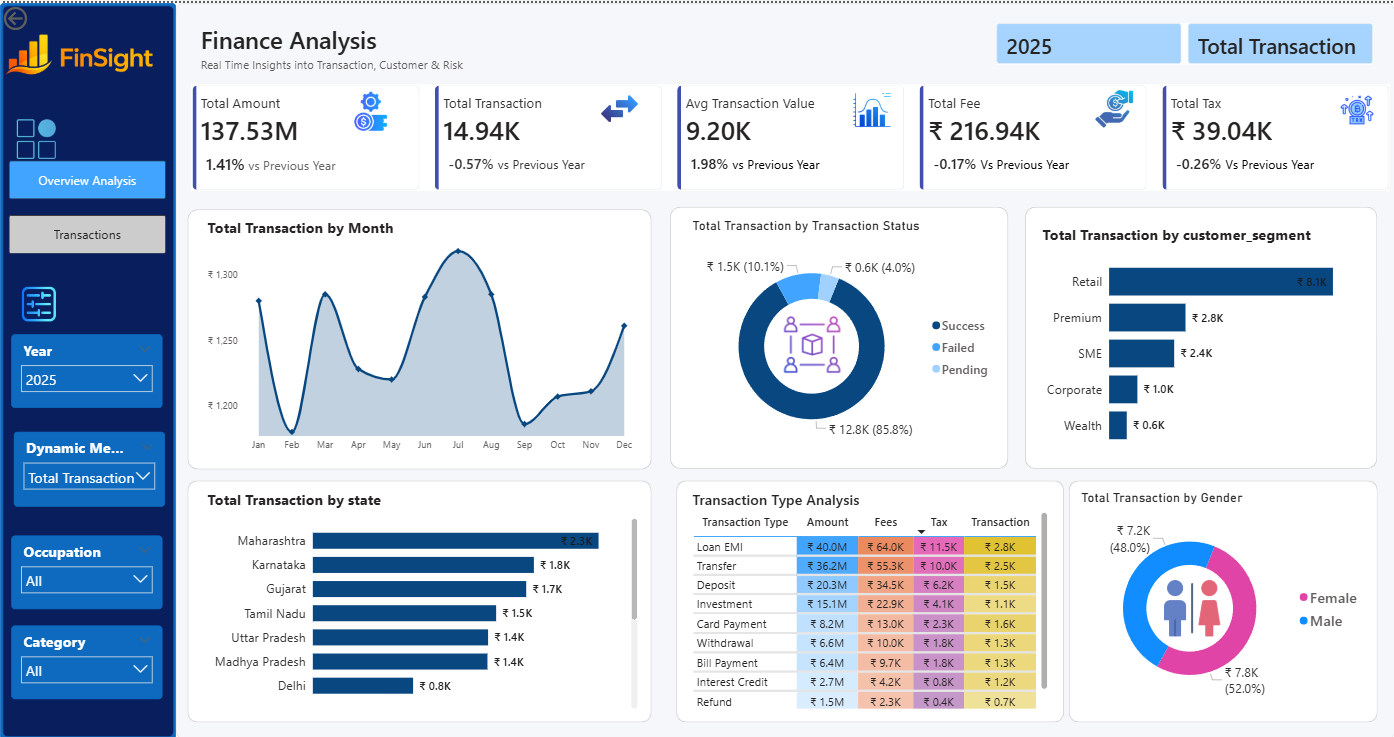

Layout of this report page (visuals, bound fields, positions):
{"tool":"powerbi","page":{"name":"Overview Analysis","canvas":[1800,950],"ordinal":0},"visuals":[{"type":"shape","box":[0,0,227.4,950.2],"z":0},{"type":"shape","box":[227.4,0,1573,950.2],"z":1000},{"type":"image","box":[0,21.6,209.8,92.2],"z":2000},{"type":"cardVisual","fields":{"Data":["finance_transactions.Dashboard Title"]},"box":[242.6,0,424.2,115.4],"z":3000},{"type":"cardVisual","fields":{"Data":["finance_transactions.Total Amount","finance_transactions.Total Transaction","finance_transactions.Avg Transaction Value","finance_transactions.Total Fee","finance_transactions.Total Tax"]},"box":[242.6,100.1,1557.7,147.6],"z":4000},{"type":"slicer","fields":{"Values":["Calender Table.Year"]},"box":[15.3,427.6,195.1,95],"z":5000},{"type":"image","box":[452.9,114.5,50,50.7],"z":6000},{"type":"image","box":[775.1,111.2,50.7,50.7],"z":7000},{"type":"image","box":[1406.3,111.2,62.1,50.7],"z":8000},{"type":"image","box":[1100.5,112.8,50.7,50],"z":9000},{"type":"image","box":[1726.7,112.8,50.7,50.7],"z":10000},{"type":"slicer","fields":{"Values":["Dynamic Metric.Dynamic Metric"]},"box":[17,553.2,195.1,96.7],"z":11000},{"type":"shape","box":[242.6,266.4,599,336],"z":12000},{"type":"areaChart","fields":{"Y":["finance_transactions.Total Transaction"],"Category":["Calender Table.Month"]},"box":[263,278.3,565,310.5],"z":13000},{"type":"cardVisual","fields":{"Data":["finance_transactions.Selected Year","finance_transactions.Selecetd Dynamic Measure"]},"box":[1280.3,21.3,497.1,63.8],"z":14000},{"type":"shape","box":[865,263.3,436.6,338.5],"z":15000},{"type":"donutChart","fields":{"Y":["finance_transactions.Total Transaction"],"Category":["finance_transactions.transaction_status"]},"box":[889.1,278.3,400.5,312.2],"z":16000},{"type":"shape","box":[1322.9,263.3,454.6,338.5],"z":17000},{"type":"barChart","fields":{"Y":["finance_transactions.Total Transaction"],"Category":["customers.customer_segment"]},"box":[1340.8,286.2,425.1,302.5],"z":18000},{"type":"shape","box":[242.6,616,599,312.2],"z":19000},{"type":"barChart","fields":{"Y":["finance_transactions.Total Transaction"],"Category":["customers.state"]},"box":[263,627.8,565,288.5],"z":20000},{"type":"shape","box":[872.2,616,500.6,312.2],"z":21000},{"type":"tableEx","title":"Transaction Type Analysis","fields":{"Values":["finance_transactions.transaction_type","finance_transactions.Total Amount","finance_transactions.Total Fee","finance_transactions.Total Tax","finance_transactions.Total Transaction"]},"box":[889.1,627.8,468.3,288.5],"z":22000},{"type":"shape","box":[1379.5,616,398.8,312.2],"z":23000},{"type":"donutChart","fields":{"Y":["finance_transactions.Total Transaction"],"Category":["customers.gender"]},"box":[1391.4,627.8,375,288.5],"z":24000},{"type":"image","box":[996,402.2,105.2,78.1],"z":25000},{"type":"image","box":[1496.6,722.9,83.1,117.1],"z":26000},{"type":"slicer","fields":{"Values":["customers.occupation"]},"box":[15.3,687.2,195.1,95],"z":27000},{"type":"actionButton","box":[0,0,100,40],"z":28000},{"type":"slicer","fields":{"Values":["finance_transactions.merchant_category"]},"box":[15.3,804.3,195.1,95],"z":29000},{"type":"pageNavigator","box":[11.9,203.6,203.6,120.5],"z":30000},{"type":"image","box":[15.3,363.1,71.3,50.9],"z":31000},{"type":"image","box":[11.9,149.3,71.3,50.9],"z":32000}]}

Visuals, with their boxes on the page's 1800x950 design canvas (x1, y1, x2, y2). These are canvas units, not pixel positions in the 1394x737 screenshot, which may show the page scaled, cropped or inside an application window:
shape: {"x1": 0, "y1": 0, "x2": 227, "y2": 950}
shape: {"x1": 227, "y1": 0, "x2": 1800, "y2": 950}
image: {"x1": 0, "y1": 22, "x2": 210, "y2": 114}
cardVisual - finance_transactions.Dashboard Title: {"x1": 243, "y1": 0, "x2": 667, "y2": 115}
cardVisual - finance_transactions.Total Amount x finance_transactions.Total Transaction: {"x1": 243, "y1": 100, "x2": 1800, "y2": 248}
slicer - Calender Table.Year: {"x1": 15, "y1": 428, "x2": 210, "y2": 523}
image: {"x1": 453, "y1": 114, "x2": 503, "y2": 165}
image: {"x1": 775, "y1": 111, "x2": 826, "y2": 162}
image: {"x1": 1406, "y1": 111, "x2": 1468, "y2": 162}
image: {"x1": 1100, "y1": 113, "x2": 1151, "y2": 163}
image: {"x1": 1727, "y1": 113, "x2": 1777, "y2": 164}
slicer - Dynamic Metric.Dynamic Metric: {"x1": 17, "y1": 553, "x2": 212, "y2": 650}
shape: {"x1": 243, "y1": 266, "x2": 842, "y2": 602}
areaChart - finance_transactions.Total Transaction x Calender Table.Month: {"x1": 263, "y1": 278, "x2": 828, "y2": 589}
cardVisual - finance_transactions.Selected Year x finance_transactions.Selecetd Dynamic Measure: {"x1": 1280, "y1": 21, "x2": 1777, "y2": 85}
shape: {"x1": 865, "y1": 263, "x2": 1302, "y2": 602}
donutChart - finance_transactions.Total Transaction x finance_transactions.transaction_status: {"x1": 889, "y1": 278, "x2": 1290, "y2": 590}
shape: {"x1": 1323, "y1": 263, "x2": 1778, "y2": 602}
barChart - finance_transactions.Total Transaction x customers.customer_segment: {"x1": 1341, "y1": 286, "x2": 1766, "y2": 589}
shape: {"x1": 243, "y1": 616, "x2": 842, "y2": 928}
barChart - finance_transactions.Total Transaction x customers.state: {"x1": 263, "y1": 628, "x2": 828, "y2": 916}
shape: {"x1": 872, "y1": 616, "x2": 1373, "y2": 928}
"Transaction Type Analysis" tableEx: {"x1": 889, "y1": 628, "x2": 1357, "y2": 916}
shape: {"x1": 1380, "y1": 616, "x2": 1778, "y2": 928}
donutChart - finance_transactions.Total Transaction x customers.gender: {"x1": 1391, "y1": 628, "x2": 1766, "y2": 916}
image: {"x1": 996, "y1": 402, "x2": 1101, "y2": 480}
image: {"x1": 1497, "y1": 723, "x2": 1580, "y2": 840}
slicer - customers.occupation: {"x1": 15, "y1": 687, "x2": 210, "y2": 782}
actionButton: {"x1": 0, "y1": 0, "x2": 100, "y2": 40}
slicer - finance_transactions.merchant_category: {"x1": 15, "y1": 804, "x2": 210, "y2": 899}
pageNavigator: {"x1": 12, "y1": 204, "x2": 216, "y2": 324}
image: {"x1": 15, "y1": 363, "x2": 87, "y2": 414}
image: {"x1": 12, "y1": 149, "x2": 83, "y2": 200}
